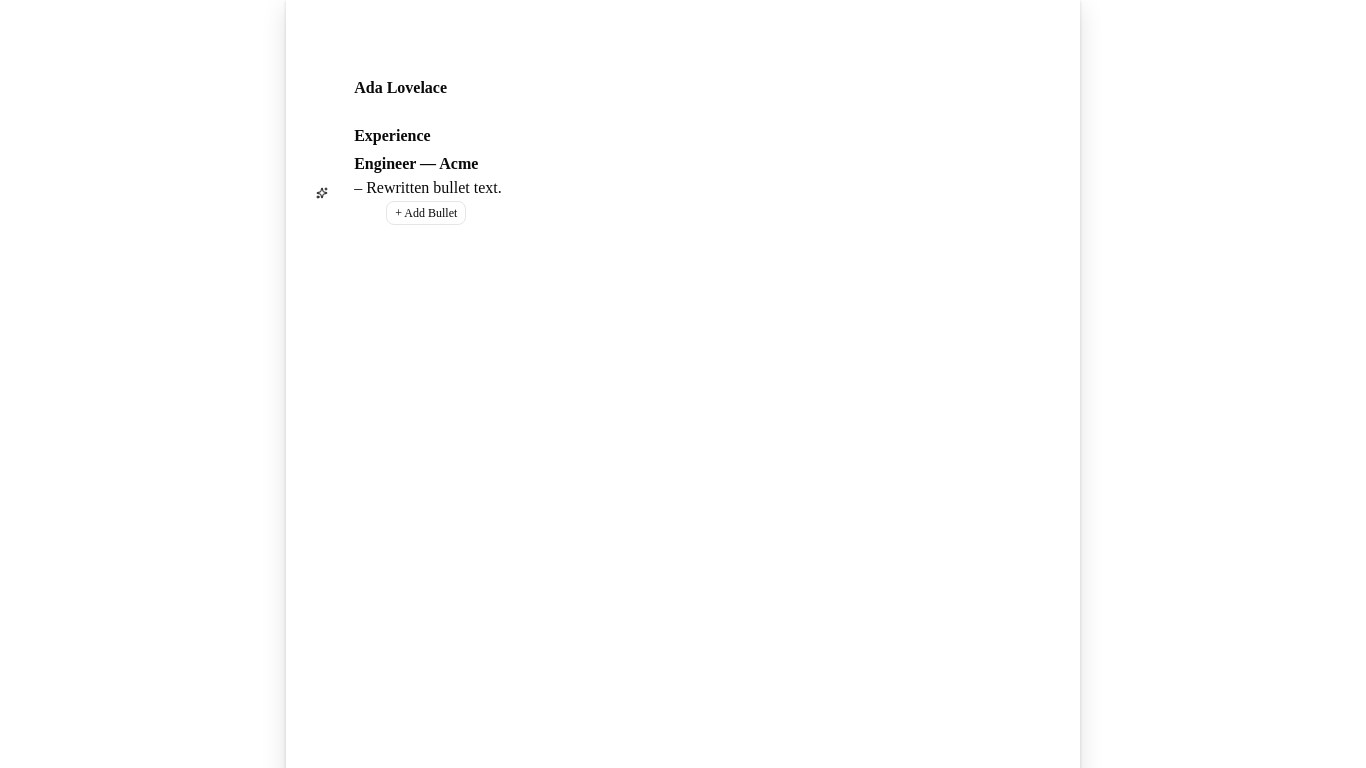
Test case: DocumentEditor — Phase 31 (follow-up) AI-edit provenance popover › closes via the explicit close button
Step 1. Click the button named "AI-edited bullet — view original text and rationale" → (322, 193), box [310,181,334,205]
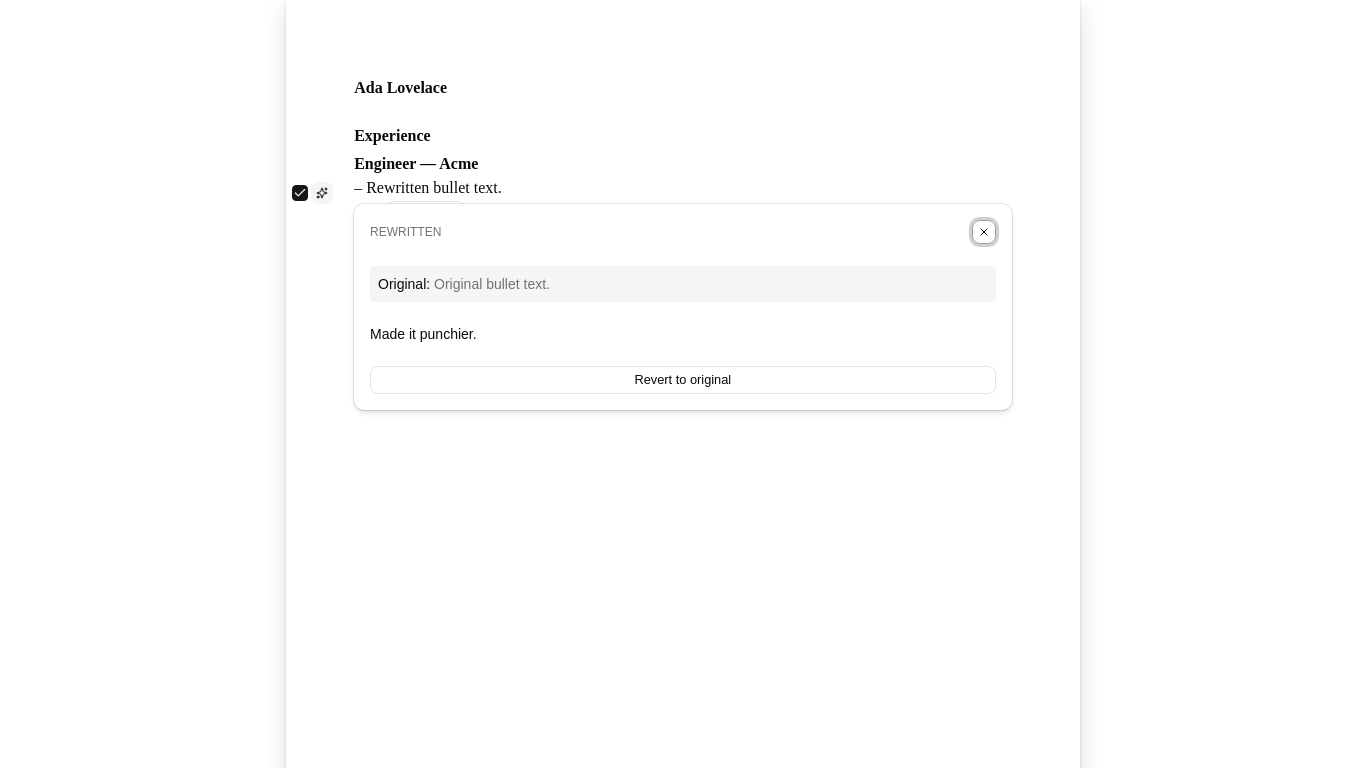
Check: the text "Original bullet text." is shown, box [434,276,550,292]
Step 2. Click the button named "Close" → (984, 232), box [972,220,996,244]
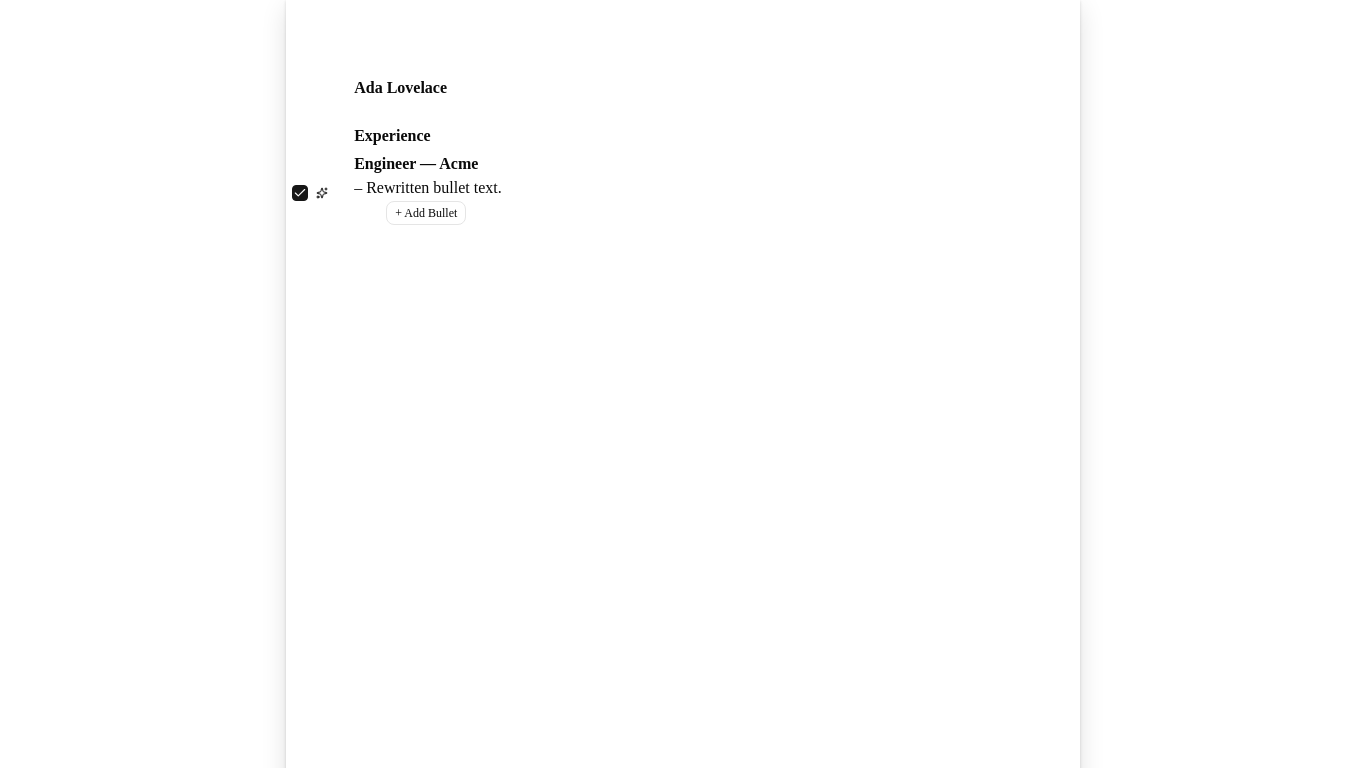
Check: the text "Original bullet text." is gone
